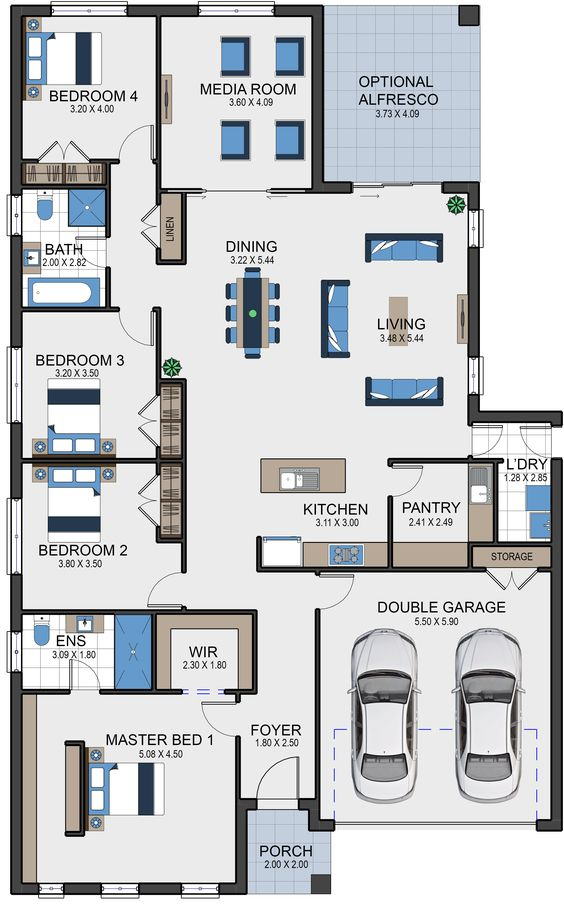door: (253, 752, 303, 796), (116, 122, 156, 158), (117, 312, 156, 348), (67, 233, 106, 269), (145, 570, 180, 609), (321, 572, 356, 611), (393, 462, 428, 501), (200, 699, 235, 736), (471, 423, 506, 456), (516, 424, 551, 457), (67, 657, 101, 687)
room: (9, 687, 247, 894), (157, 4, 324, 193), (8, 458, 186, 613), (10, 6, 161, 163), (10, 306, 161, 462)
window: (4, 345, 23, 423), (5, 497, 24, 575), (50, 1, 126, 16), (197, 1, 273, 15), (5, 630, 24, 673), (5, 194, 23, 235), (467, 210, 483, 251), (466, 355, 482, 396), (100, 881, 138, 896), (180, 882, 220, 896), (38, 882, 63, 896)
